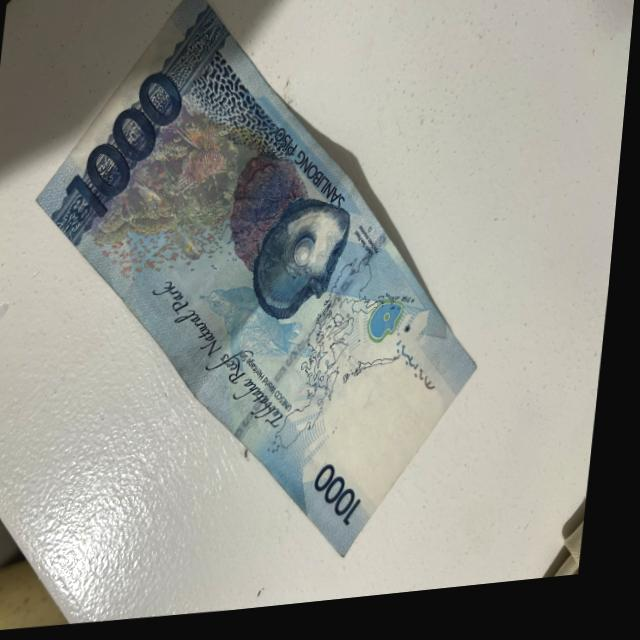1000_pearl: (258, 193, 358, 325)
1000_pearl_watermark: (372, 304, 409, 356)
watermark: (337, 360, 441, 507)
